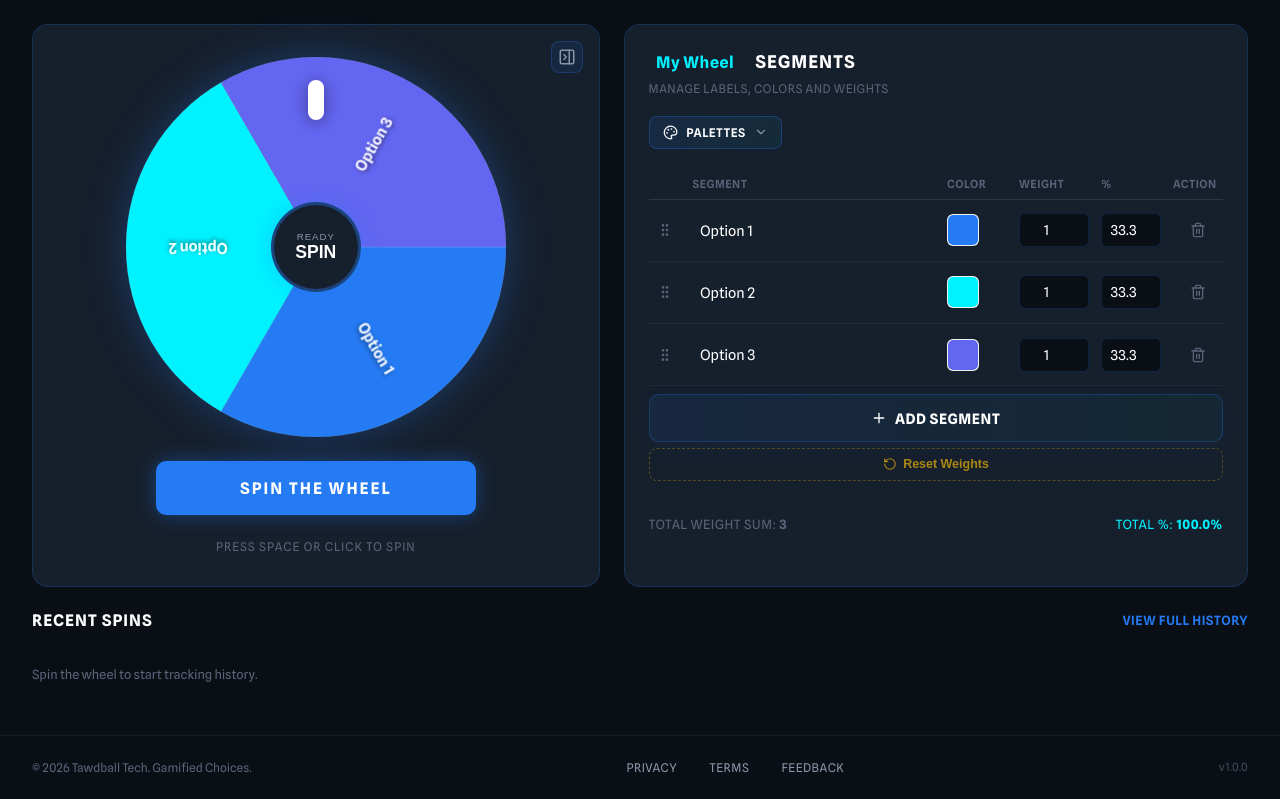
Test: Feedback modal › contains a GitHub link with correct attributes
(page scrolled)
Click the link "Feedback".
click(813, 768)  # box [781, 760, 844, 775]
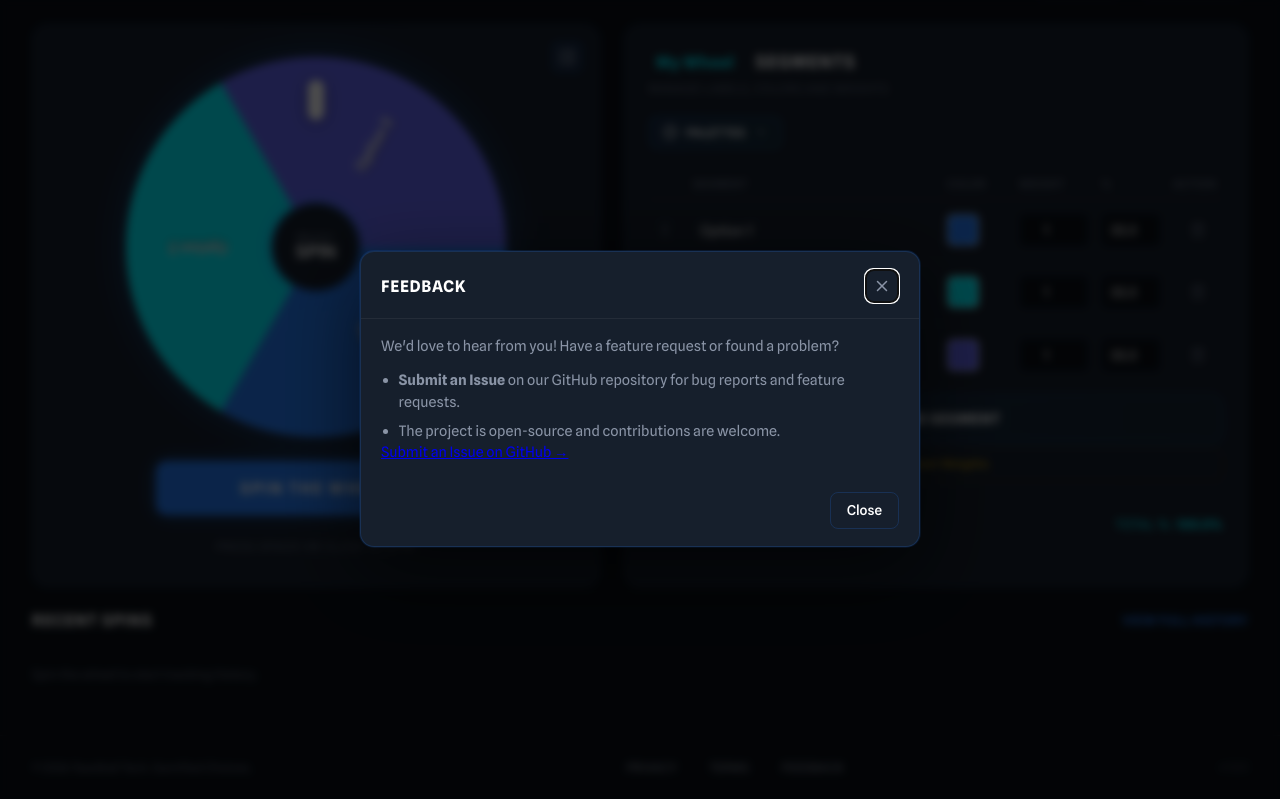
Check: the dialog "Feedback" is shown, box [360, 251, 920, 547]
